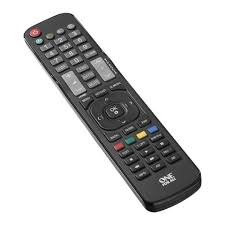remote control: (20, 13, 205, 213)
